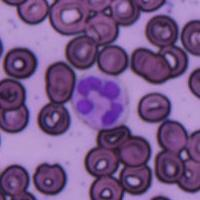N: (71, 72, 130, 130)
